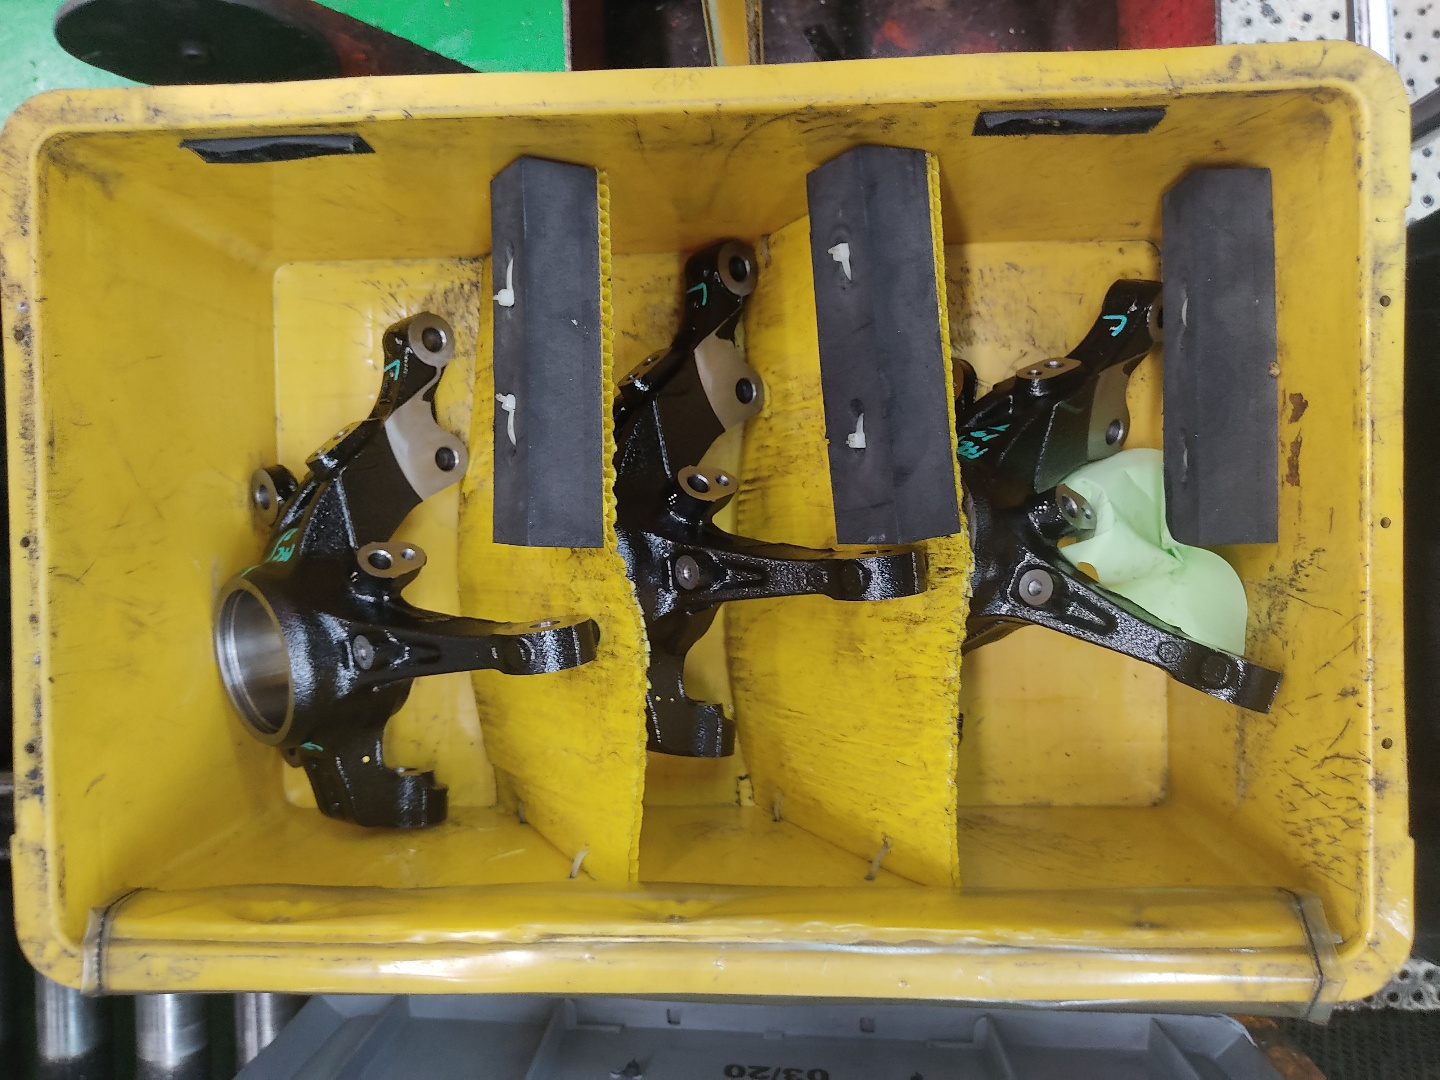abs-lh: (204, 295, 605, 836), (951, 235, 1289, 771), (605, 228, 937, 766)
